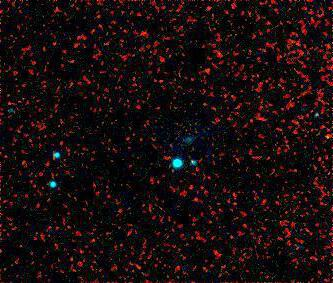star: (313, 127, 333, 157)
